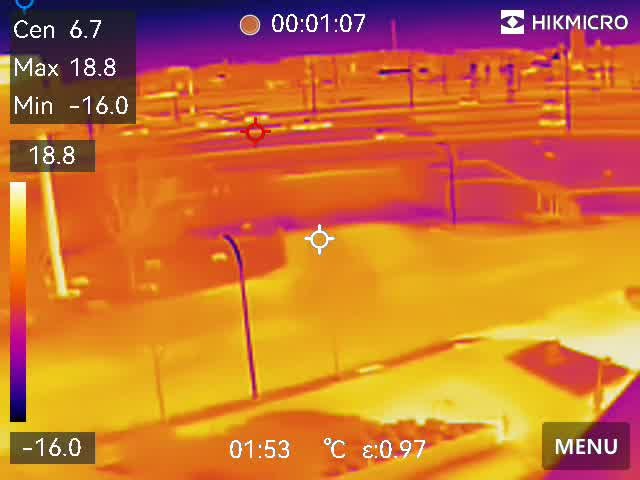vehicle: (370, 126, 410, 146), (534, 113, 569, 131), (118, 123, 154, 140), (236, 109, 274, 123), (538, 94, 565, 112), (455, 94, 484, 110)
